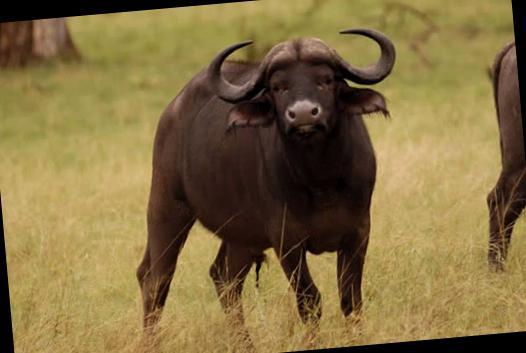Buffalo: (104, 2, 463, 353)
